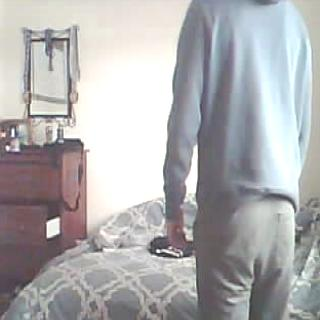Blue Hoodie: (168, 0, 314, 202)
Gray Sweatpants: (192, 197, 298, 320)
